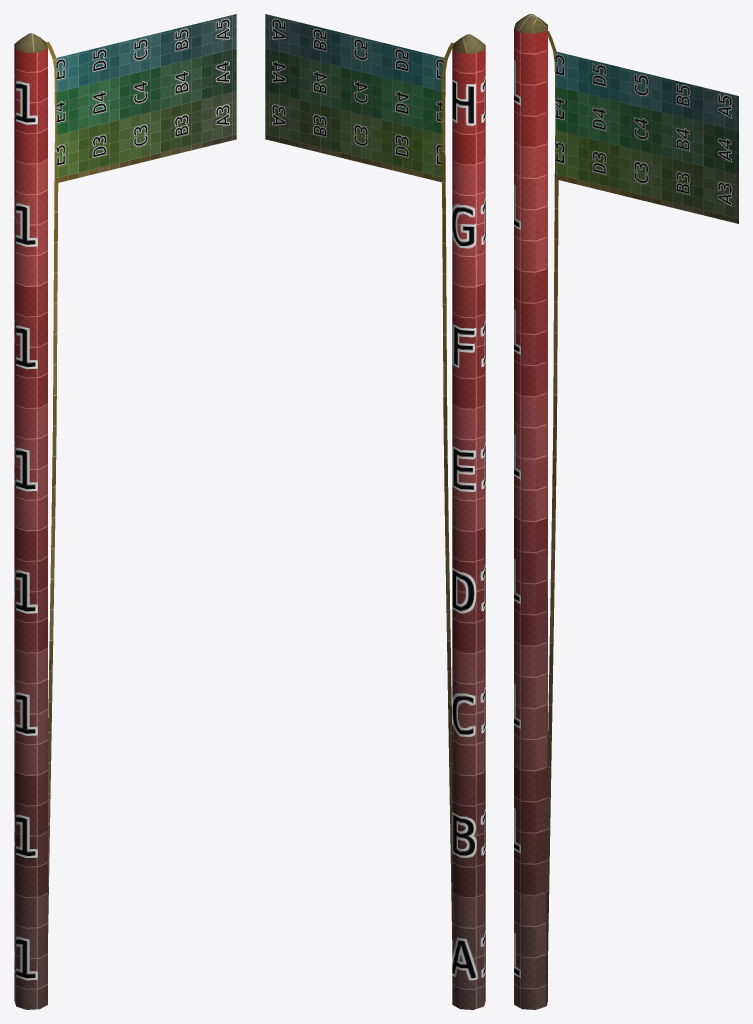
File: flag_1953.glb
3 views of the same model, side by side, from view 1: azimuth 30°, elevation 25°; view 2: azimuth 150°, elevation 25°; view 3: azimuth 330°, elevation 25° (orthographic). The views are drawn at different scales.
Visible parts, largest first — view 1: STAKE; view 2: STAKE; view 3: STAKE.
Boxes of the visible parts, left/top/right/bottom form: STAKE: left=14, top=14, right=236, bottom=1009; STAKE: left=265, top=14, right=485, bottom=1009; STAKE: left=514, top=14, right=738, bottom=1009.
Bounding box in the file's own units: 1.1 × 4.64 × 0.15.
Materials: 2 (2 with a texture image).
